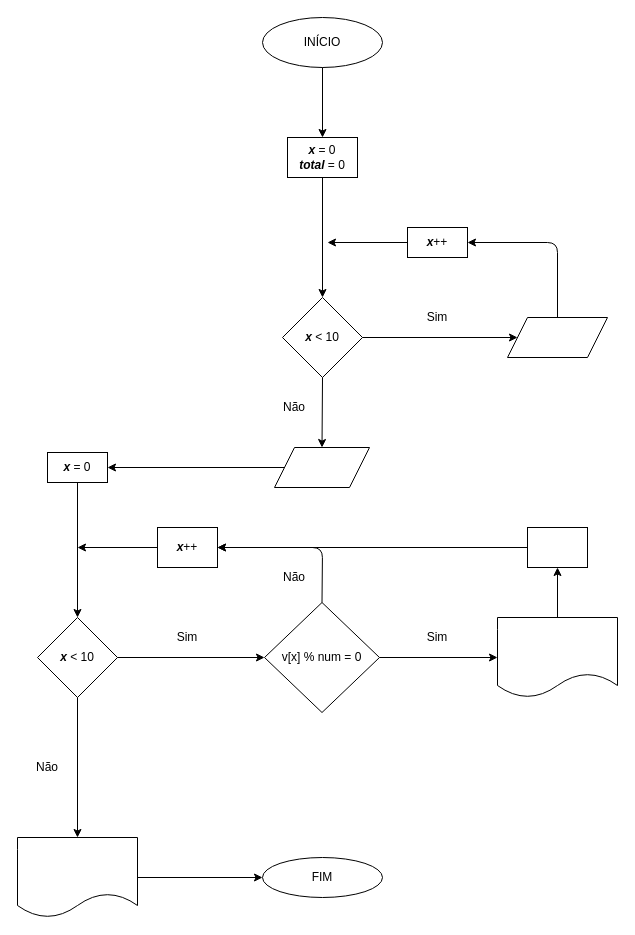
Some shapes in this 635 by 935 pixel diagram are drawn without their labels. The centre of each missing label's shape, as x and y in pixels:
Escreve " v[x] é multiplo de num": [557,657]
Escreve "Introduziu um total de total multiplos de num ": [77,877]
Ler num: [322,467]
Ler v[x]: [557,337]
total ++: [557,547]
